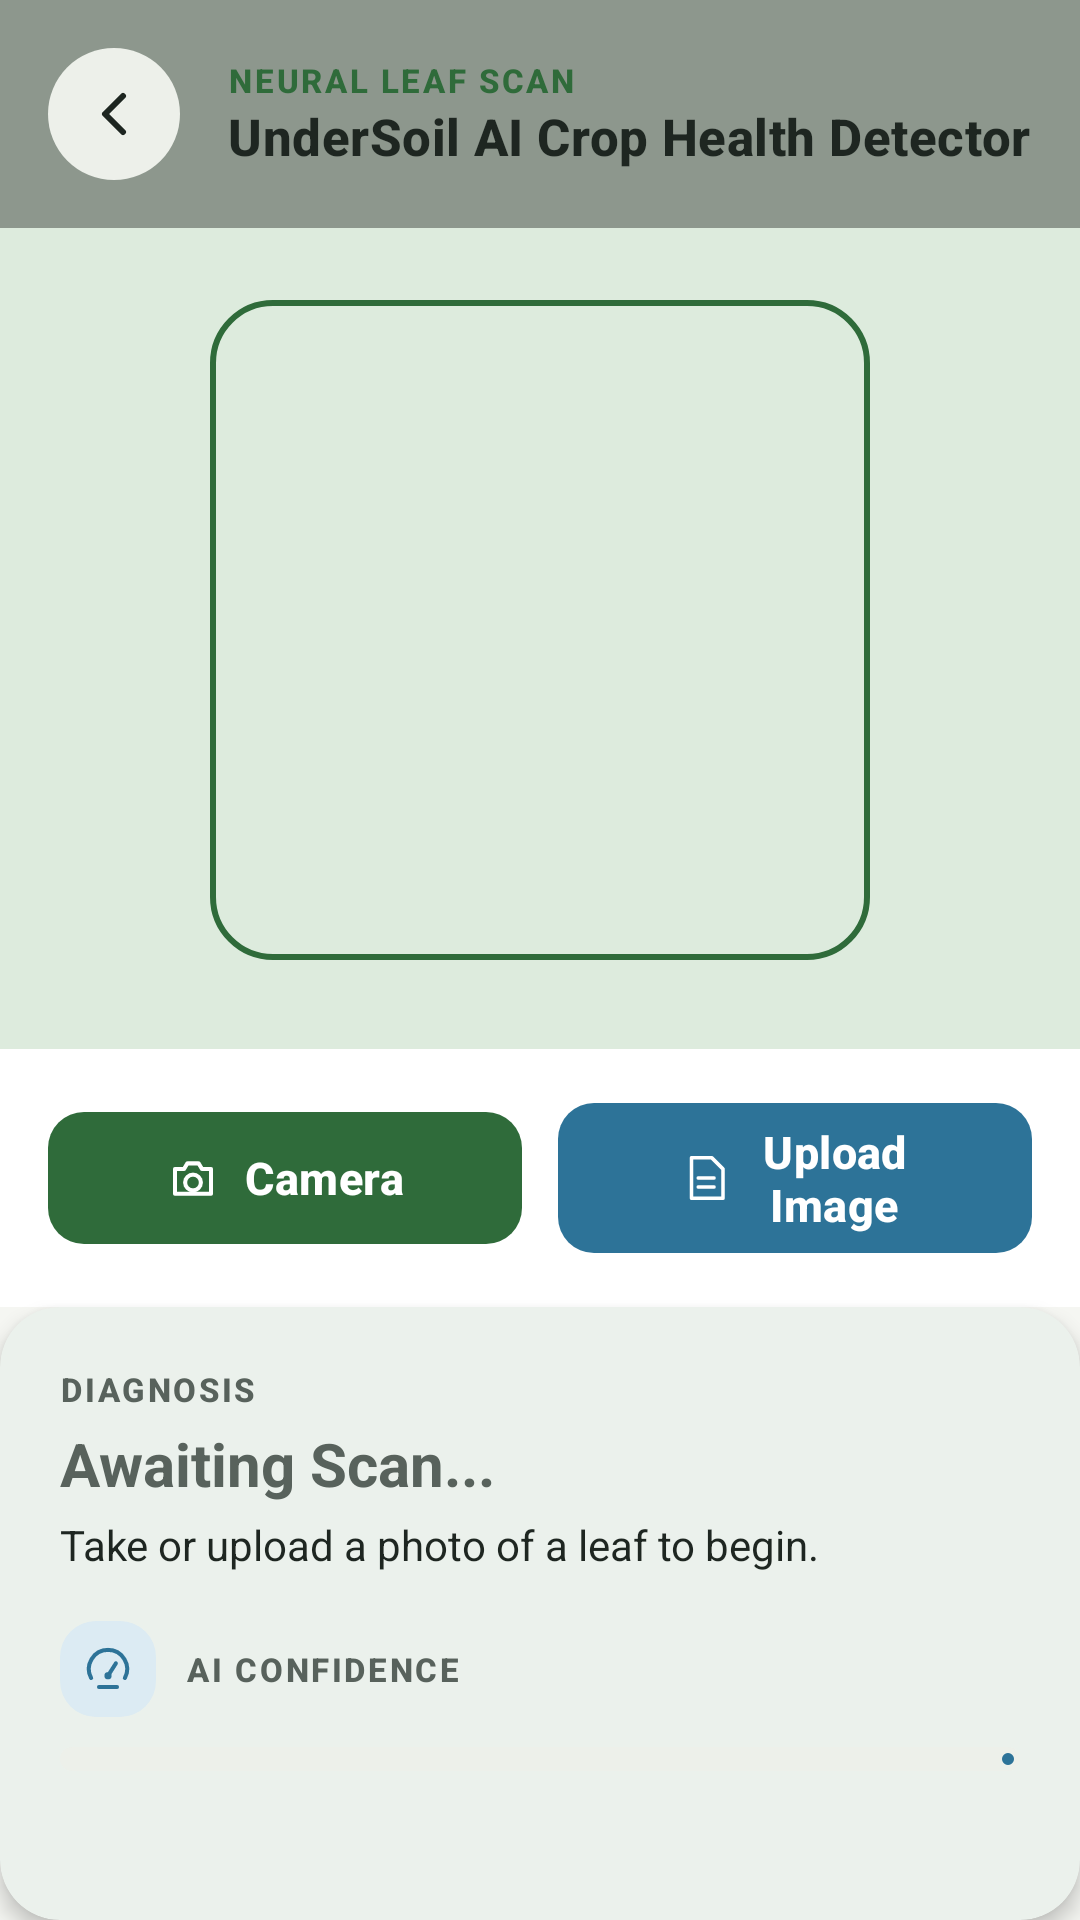

Icons on this 1080x1920 Android screen, each with its box as [left=x1, top=y1, right=x2, bottom=y2]:
Back: [left=48, top=48, right=180, bottom=180]
